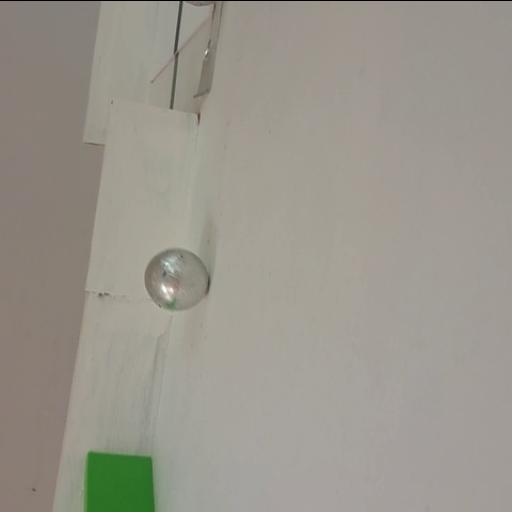alive: (142, 243, 212, 314)
